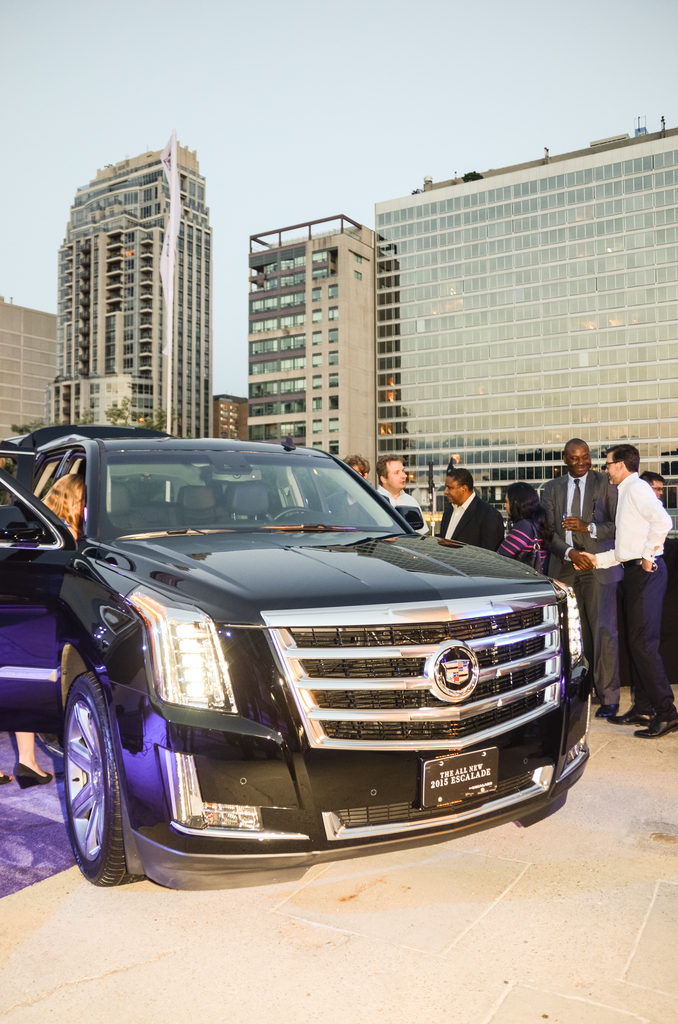Person: (497, 481, 545, 573)
